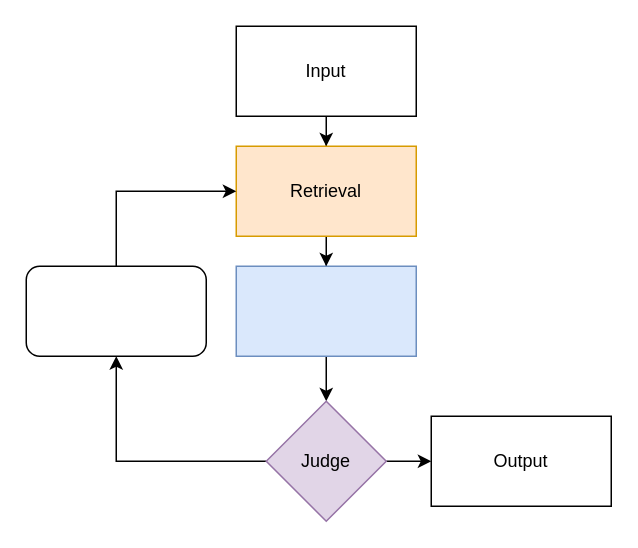
The diagram is 638 pixels wide and 548 high, and some of its shapes have lost their labels. The shapes that lost their labels are listed below. From the top down, each one's centre as x and y in pixels, then its label:
At pixel 115 310: "Query expasion and reformulation".
At pixel 325 310: "Generation".
